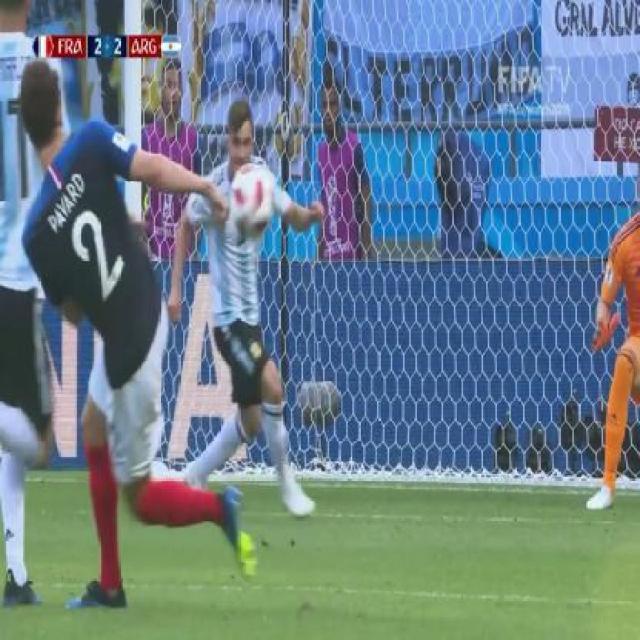ball: (228, 160, 276, 243)
player: (20, 38, 228, 600), (166, 77, 320, 559), (0, 0, 71, 623), (585, 157, 639, 520)
